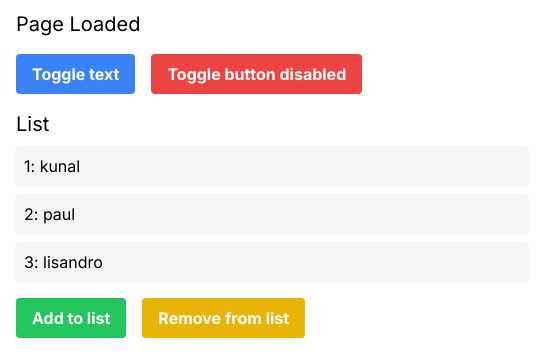
TestingStateChange component › removes an element from the list
Click the button "Remove from list" at (224, 318), box [142,298,305,338]
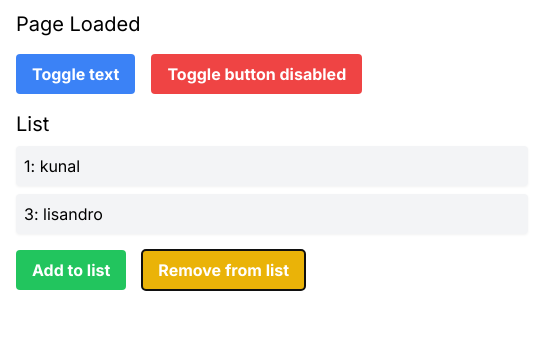
Check: the number of elements with test id "record" is 2, box [16,146,528,186]; [16,194,528,234]
